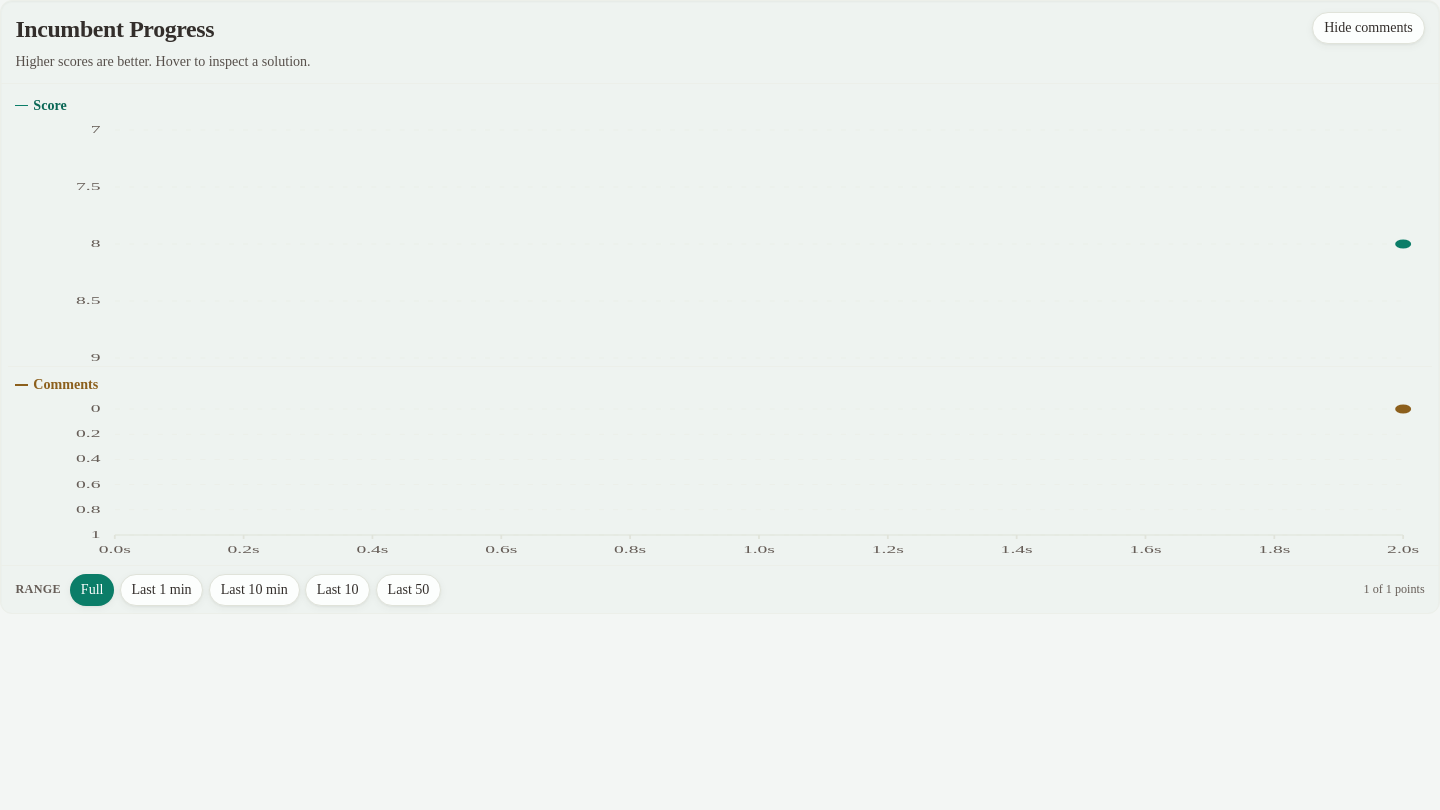
Test case: every data-bearing value on the Optimize route is set in the mono face › the tooltip's solver source is mono
This screenshot has width=1440, height=810.
Focus the element named "Progress data points": {"x": 720, "y": 330} [8,95,1432,565]
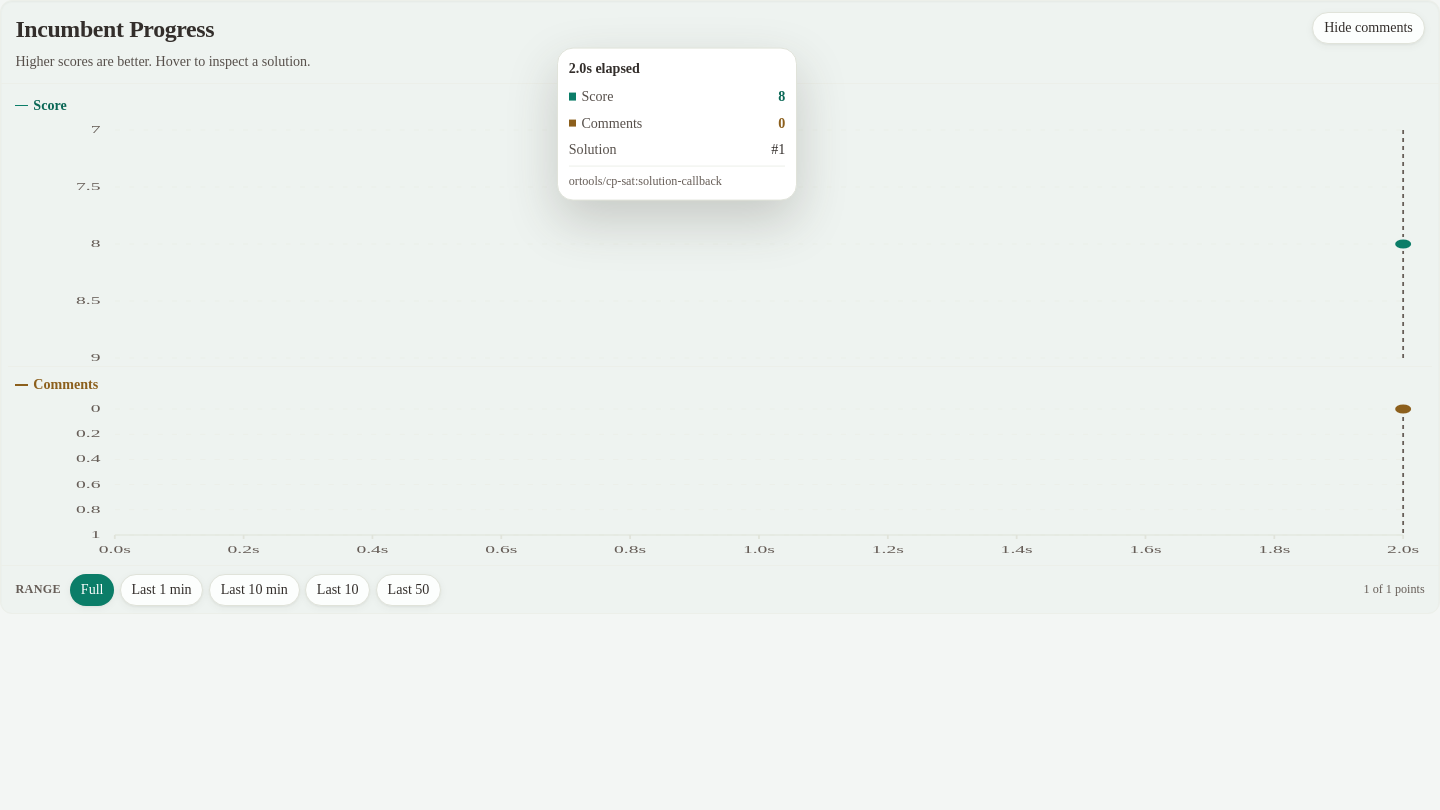
Now the text with test id "progress-chart-tooltip-source" reads "ortools/cp-sat:solution-callback", box [569,174,722,188]
